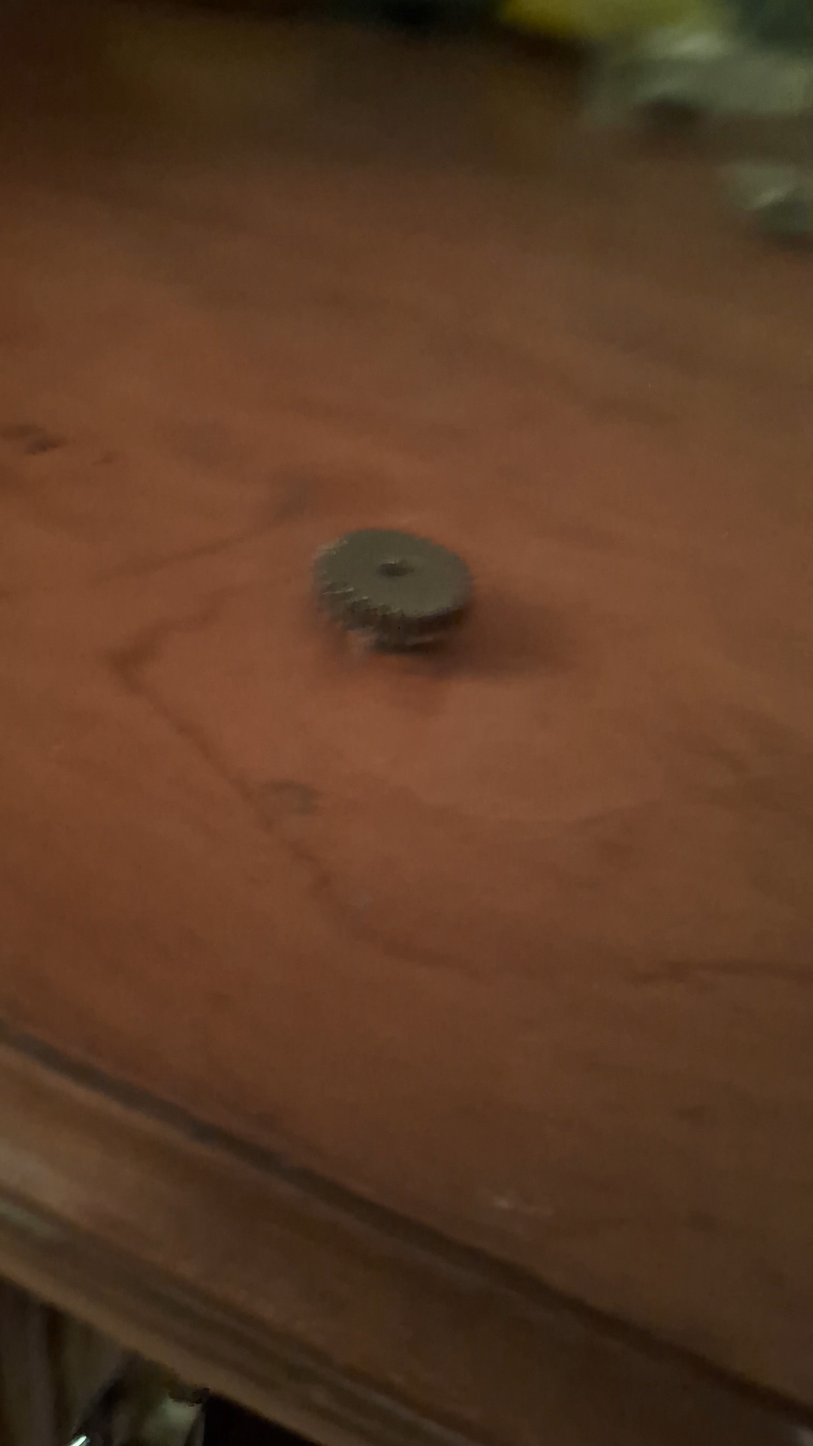spur gear: (314, 528, 472, 652)
